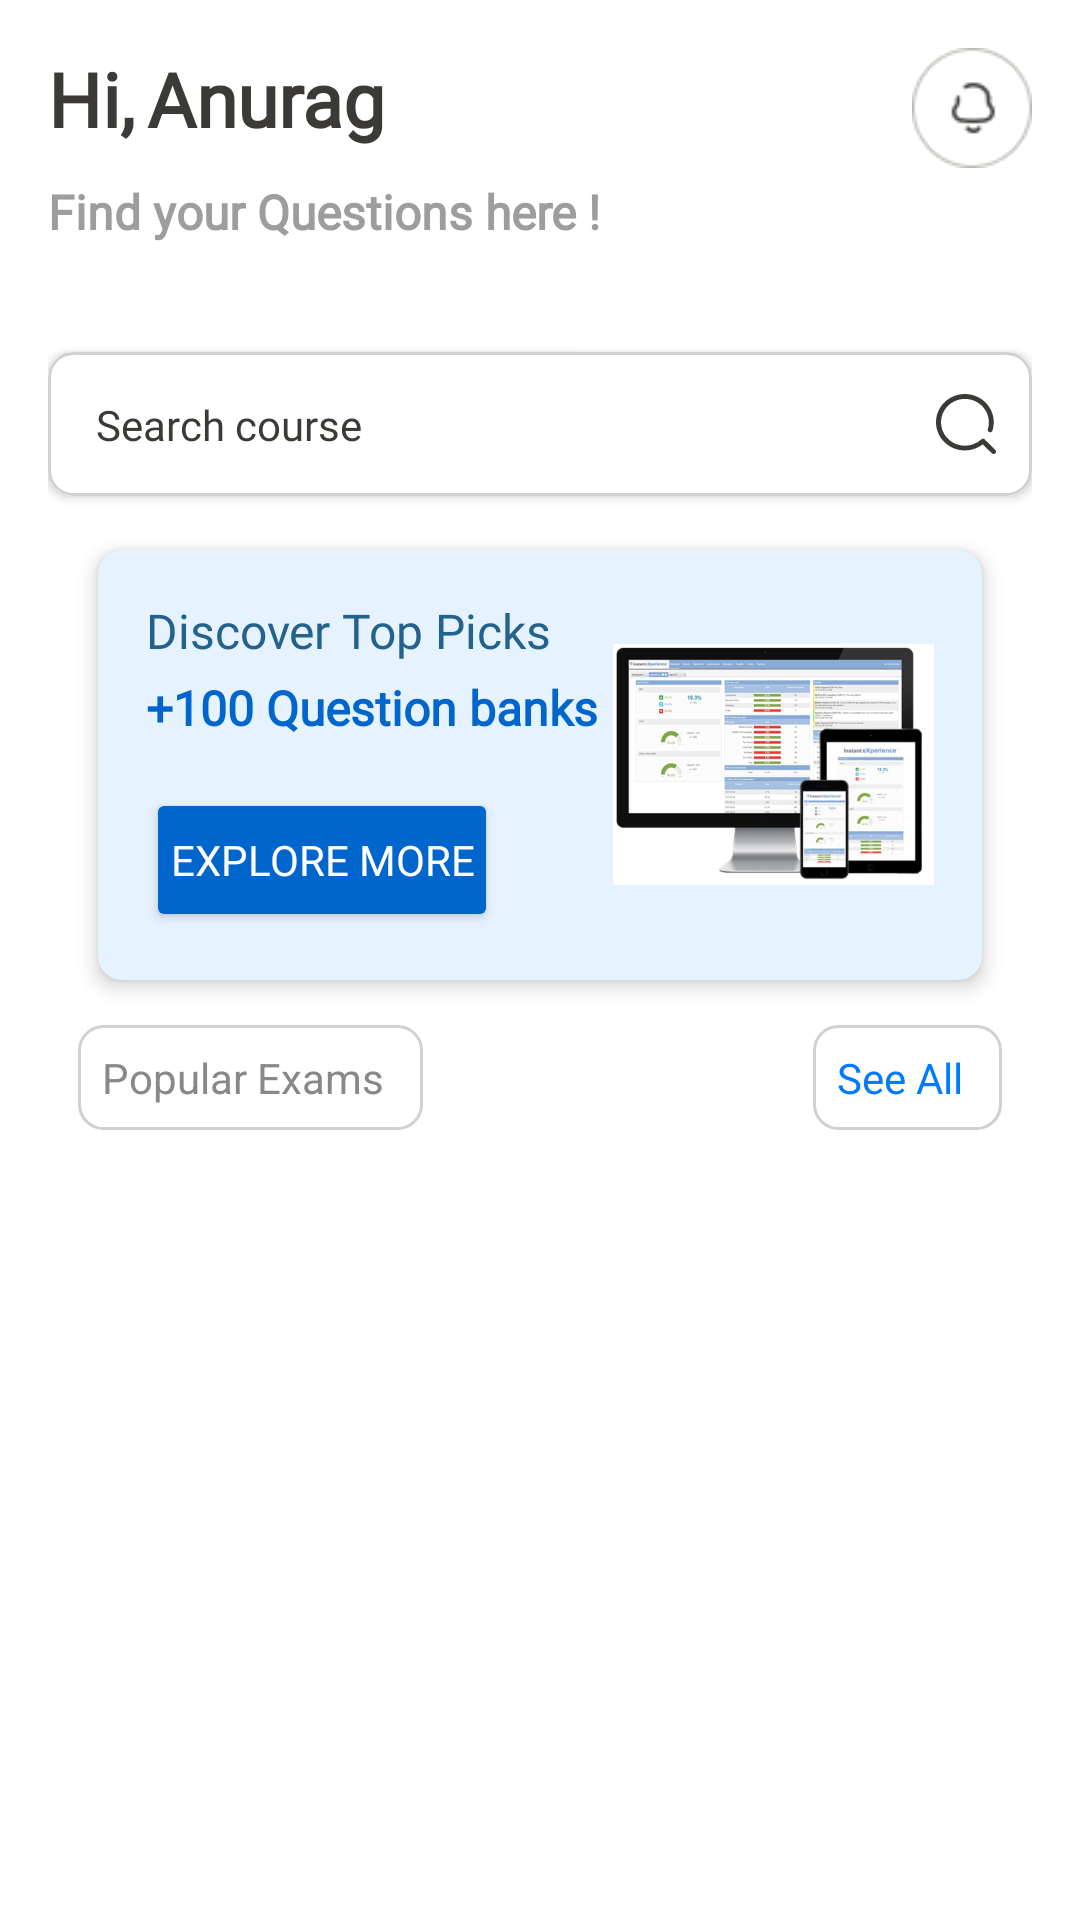

Screen size 1080x1920. Icon name, then its center in pixels as (x=x, y=y):
Dashboard on devices: (x=773, y=764)
Notification Icon: (x=972, y=108)
